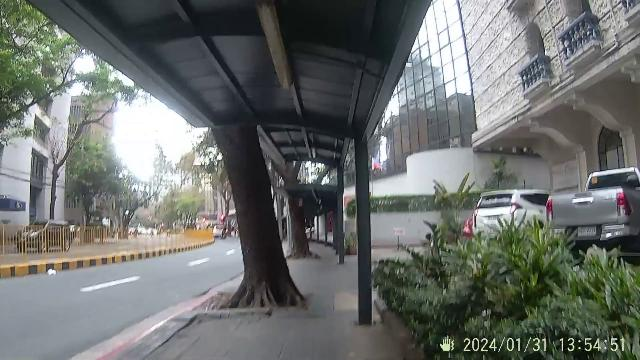car: (474, 176, 640, 264)
tree: (204, 130, 322, 322)
